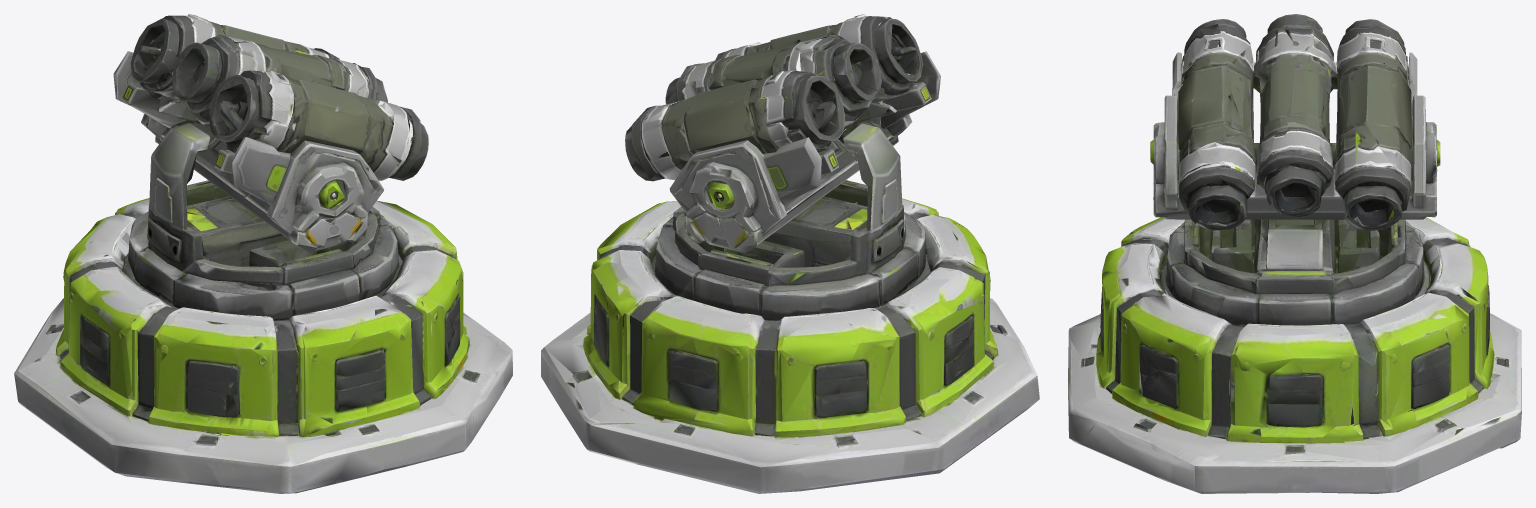
The model's file is turret-none.glb.
3 renders of one model, left to right at view 1: azimuth 30°, elevation 25°; view 2: azimuth 150°, elevation 25°; view 3: azimuth 270°, elevation 25°, orthographic.
Size of the model in its own units: 1.9 by 1.66 by 1.9.
Materials: 1 (1 with a texture image).
